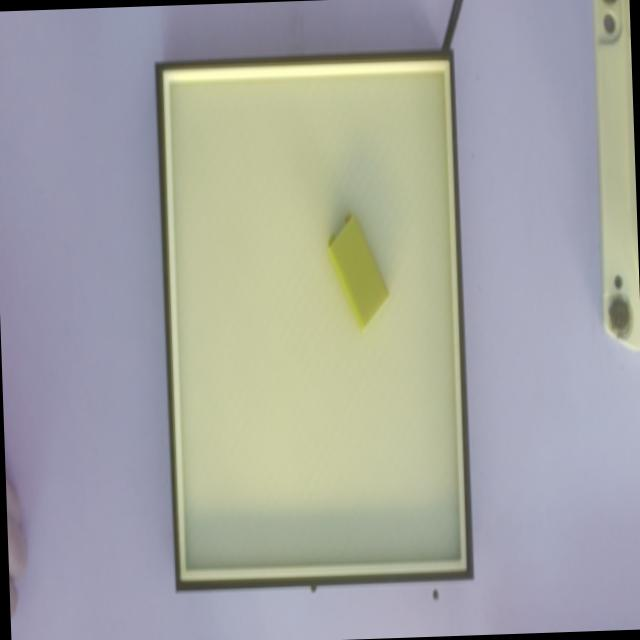bateria: (323, 213, 390, 337)
mesa: (154, 48, 474, 588)
